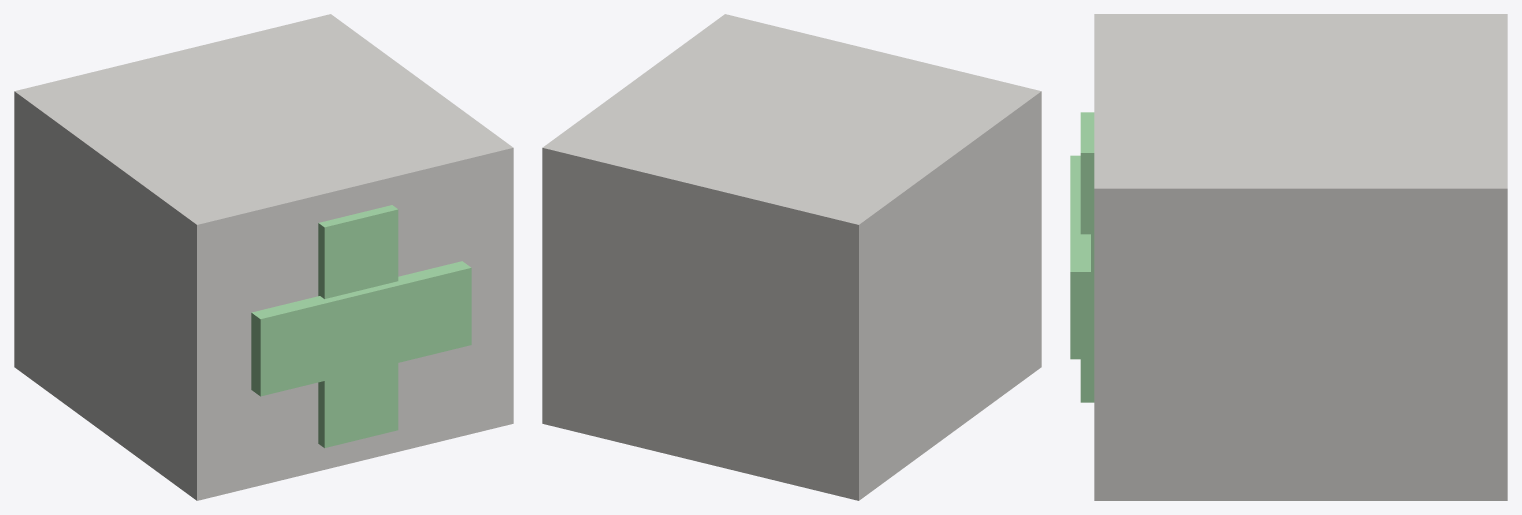
Rendered from SM_Item_HealthBig_01.glb.
3 renders of one model, left to right at view 1: azimuth 30°, elevation 25°; view 2: azimuth 150°, elevation 25°; view 3: azimuth 270°, elevation 25°, orthographic. The views are drawn at different scales.
Parts seen in each view (by area): view 1: SM_HealthBig_Box, SM_HealthBig_CrossH, SM_HealthBig_CrossV; view 2: SM_HealthBig_Box; view 3: SM_HealthBig_Box, SM_HealthBig_CrossH, SM_HealthBig_CrossV.
Boxes of the visible parts, bbox=[...] form: SM_HealthBig_Box: bbox=[14, 14, 513, 500]; SM_HealthBig_CrossH: bbox=[251, 261, 471, 396]; SM_HealthBig_CrossV: bbox=[318, 205, 398, 448]; SM_HealthBig_Box: bbox=[542, 14, 1041, 500]; SM_HealthBig_Box: bbox=[1094, 14, 1507, 500]; SM_HealthBig_CrossH: bbox=[1070, 155, 1090, 359]; SM_HealthBig_CrossV: bbox=[1080, 112, 1094, 402].
Bounding box in the file's own units: 0.6 × 0.5 × 0.635.
